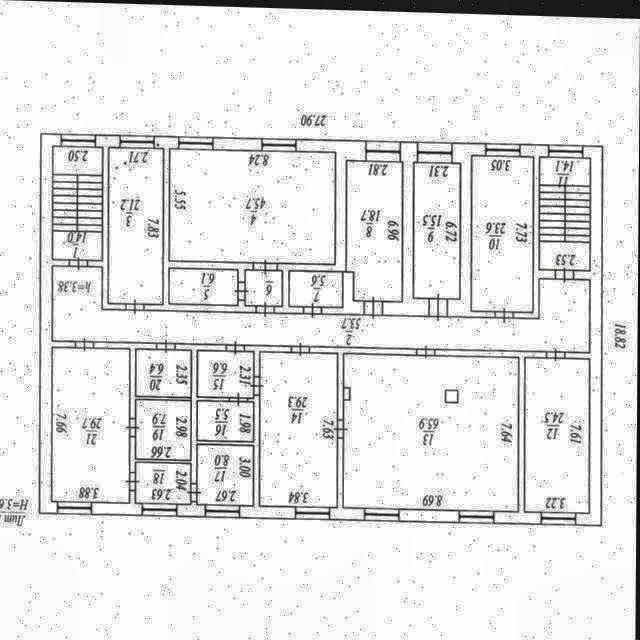room: (51, 265, 591, 352), (342, 351, 522, 509), (168, 148, 337, 262), (52, 347, 131, 502), (260, 351, 338, 505), (525, 355, 590, 510), (472, 153, 533, 308), (109, 147, 164, 304), (346, 159, 403, 299), (413, 161, 461, 297), (539, 153, 590, 267), (53, 146, 103, 260), (198, 443, 254, 505), (136, 397, 191, 459), (136, 348, 192, 397), (197, 350, 255, 396), (169, 268, 239, 303), (136, 461, 192, 503), (198, 401, 255, 440), (289, 270, 343, 305), (246, 268, 283, 304)
